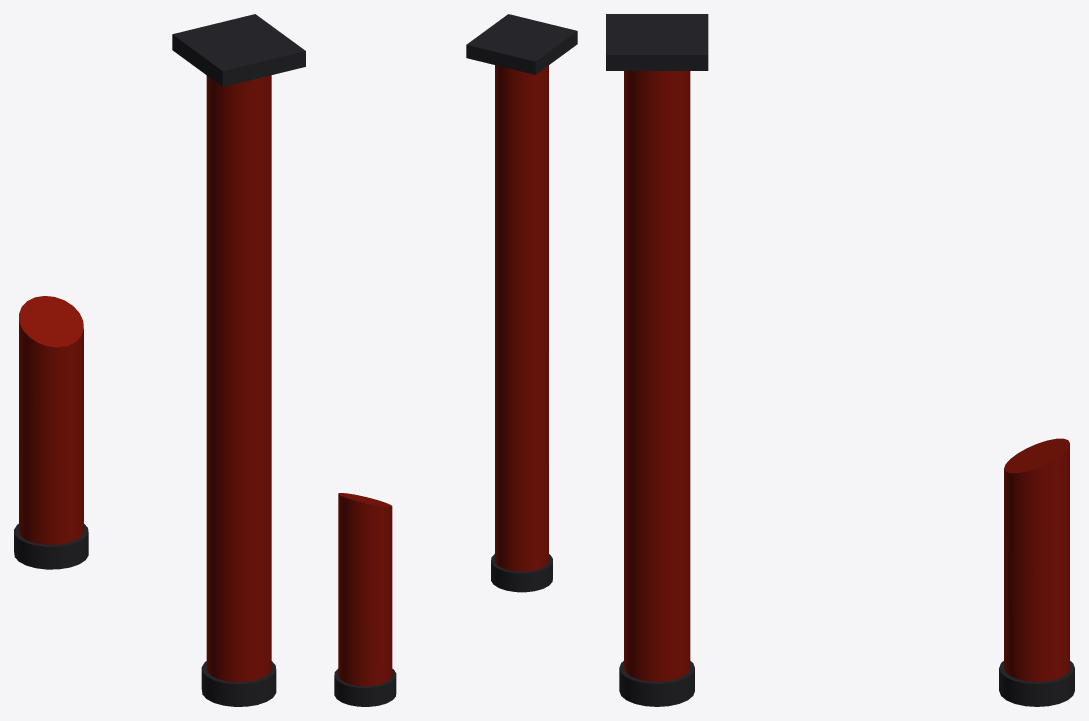
Rendered from column1.fbx.
3 views of the same model, side by side, from view 1: azimuth 30°, elevation 25°; view 2: azimuth 150°, elevation 25°; view 3: azimuth 270°, elevation 25° (orthographic). The views are drawn at different scales.
Visible parts, largest first — view 1: column1; view 2: column1; view 3: column1.
Boxes of the visible parts, x1,y1,x2,y2 form: column1: [14, 14, 305, 706]; column1: [334, 14, 577, 706]; column1: [606, 14, 1074, 706].
Bounding box in the file's own units: 142 × 1063 × 688.
